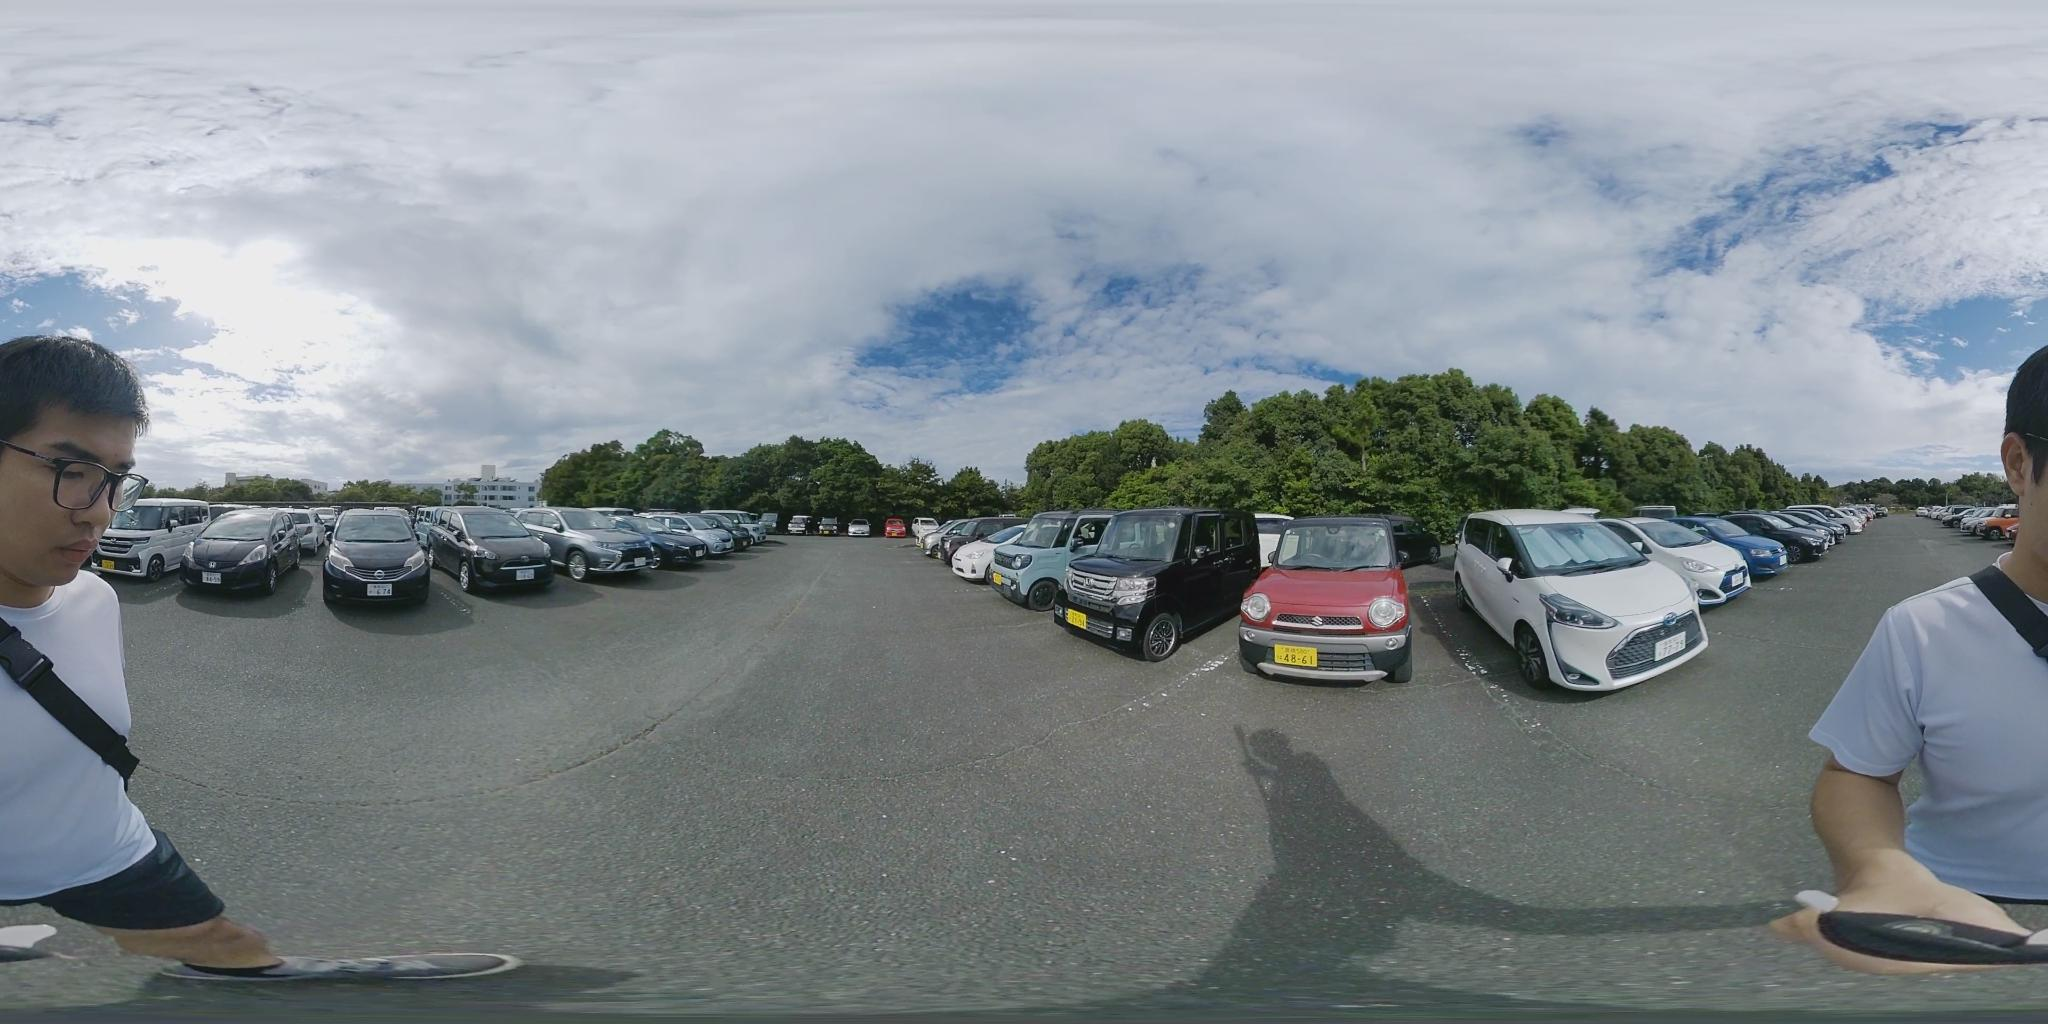car: (1450, 509, 1715, 691), (1247, 519, 1408, 687), (1066, 509, 1258, 649), (98, 499, 269, 583), (424, 508, 572, 592), (1613, 517, 1757, 602), (174, 511, 323, 592), (321, 509, 447, 603), (985, 519, 1095, 610), (528, 511, 667, 577), (1656, 512, 1788, 583), (934, 519, 1028, 573), (691, 515, 771, 554), (1955, 504, 2021, 536), (1913, 504, 1960, 522)
